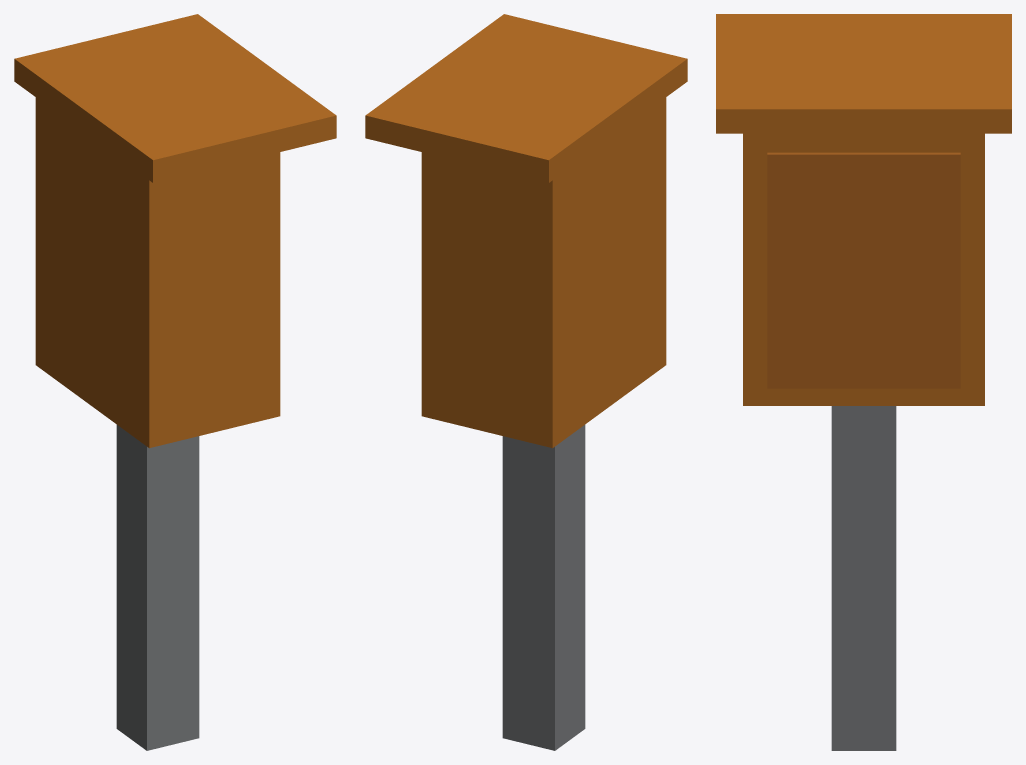
File: SM_Prop_fast_phone_0_LOD1.glb
3 renders of one model, left to right at view 1: azimuth 30°, elevation 25°; view 2: azimuth 150°, elevation 25°; view 3: azimuth 270°, elevation 25°, orthographic. The views are drawn at different scales.
Parts seen in each view (by area): view 1: SM_Prop_fast_phone_0_LOD1; view 2: SM_Prop_fast_phone_0_LOD1; view 3: SM_Prop_fast_phone_0_LOD1.
Part boxes in pixels (<box>): SM_Prop_fast_phone_0_LOD1: <box>14,14,336,750</box>; SM_Prop_fast_phone_0_LOD1: <box>365,14,687,750</box>; SM_Prop_fast_phone_0_LOD1: <box>716,14,1011,750</box>.
Size of the model in its own units: 0.42 by 1.41 by 0.55.
